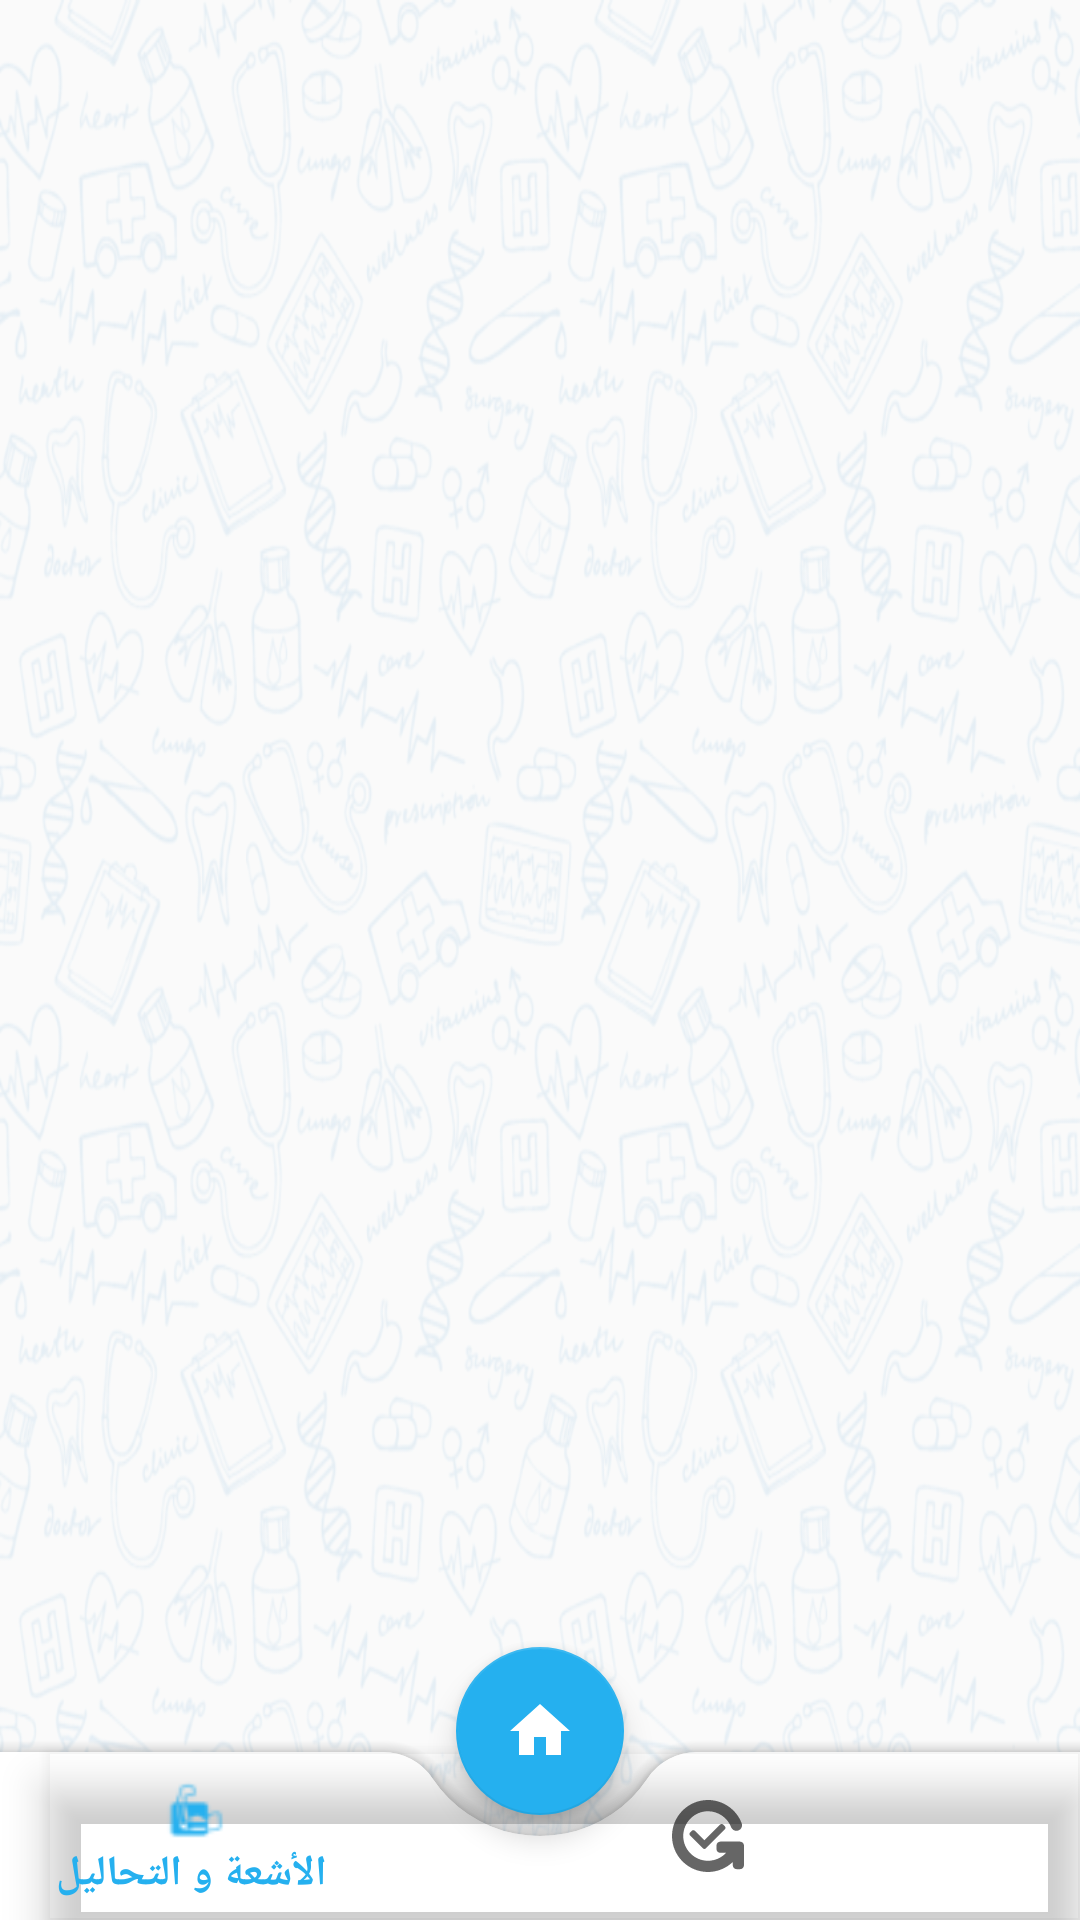

Named icons in this screenshot (1080 x 1920) and their centers, [x,y]:
home: [540,1776]
